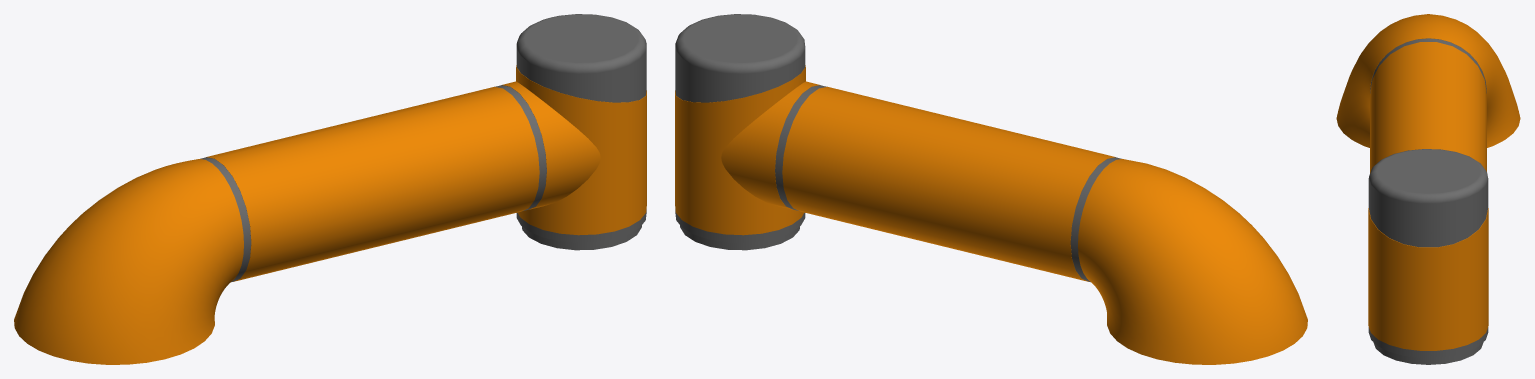
The picture shows the model from 3 angles, left to right: view 1: azimuth 30°, elevation 25°; view 2: azimuth 150°, elevation 25°; view 3: azimuth 270°, elevation 25°; orthographic projection. The views are drawn at different scales.
Parts seen in each view (by area): view 1: FBXASC195FBXASC149FBXASC195FBXASC179FBXASC195FBXASC129FBXASC; view 2: FBXASC195FBXASC149FBXASC195FBXASC179FBXASC195FBXASC129FBXASC; view 3: FBXASC195FBXASC149FBXASC195FBXASC179FBXASC195FBXASC129FBXASC.
Boxes of the visible parts, box(x1,y1,x2,y2) form: FBXASC195FBXASC149FBXASC195FBXASC179FBXASC195FBXASC129FBXASC: box(14, 14, 646, 364); FBXASC195FBXASC149FBXASC195FBXASC179FBXASC195FBXASC129FBXASC: box(675, 14, 1307, 364); FBXASC195FBXASC149FBXASC195FBXASC179FBXASC195FBXASC129FBXASC: box(1336, 14, 1520, 364).
Bounding box in the file's own units: 0.4131 × 0.118 × 0.1203.
